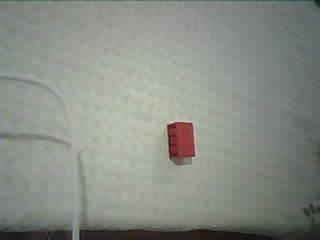lego: (166, 121, 196, 159)
